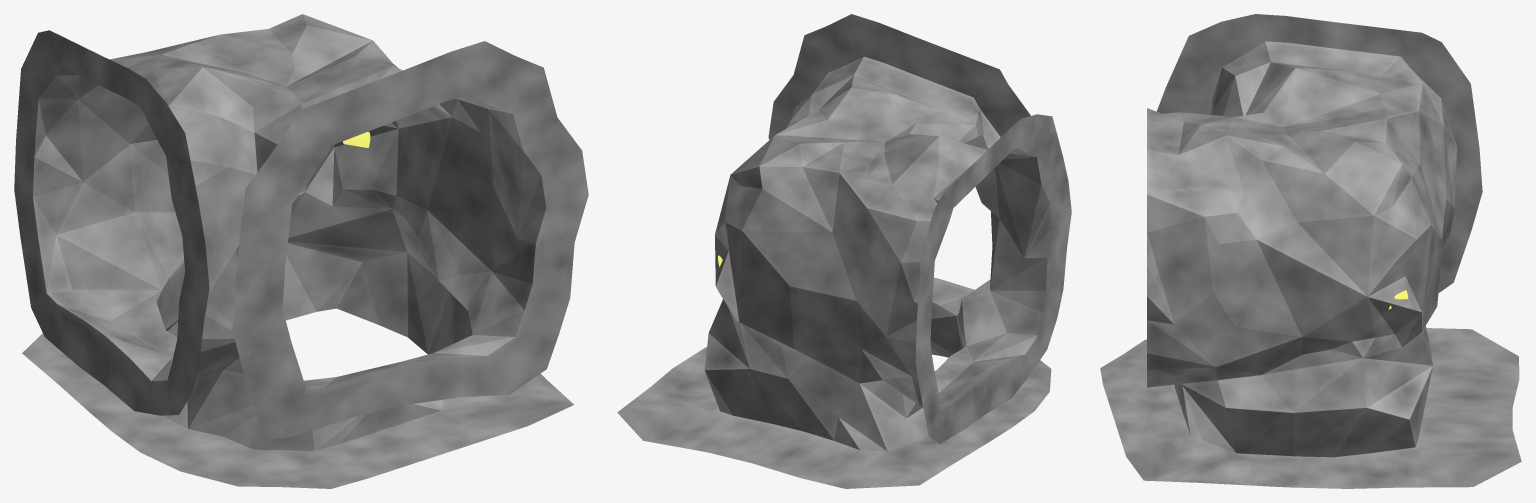
File: LDownConnector.gltf
The picture shows the model from 3 angles, left to right: view 1: azimuth 30°, elevation 25°; view 2: azimuth 150°, elevation 25°; view 3: azimuth 270°, elevation 25°; orthographic projection. The views are drawn at different scales.
Parts seen in each view (by area): view 1: LDownConnector; view 2: LDownConnector; view 3: LDownConnector.
Part boxes in pixels (<box>): LDownConnector: <box>14,14,588,488</box>; LDownConnector: <box>617,14,1071,488</box>; LDownConnector: <box>1100,14,1521,488</box>.
Size of the model in its own units: 5.2 by 4.84 by 5.61.
2 materials, 2 textured.
